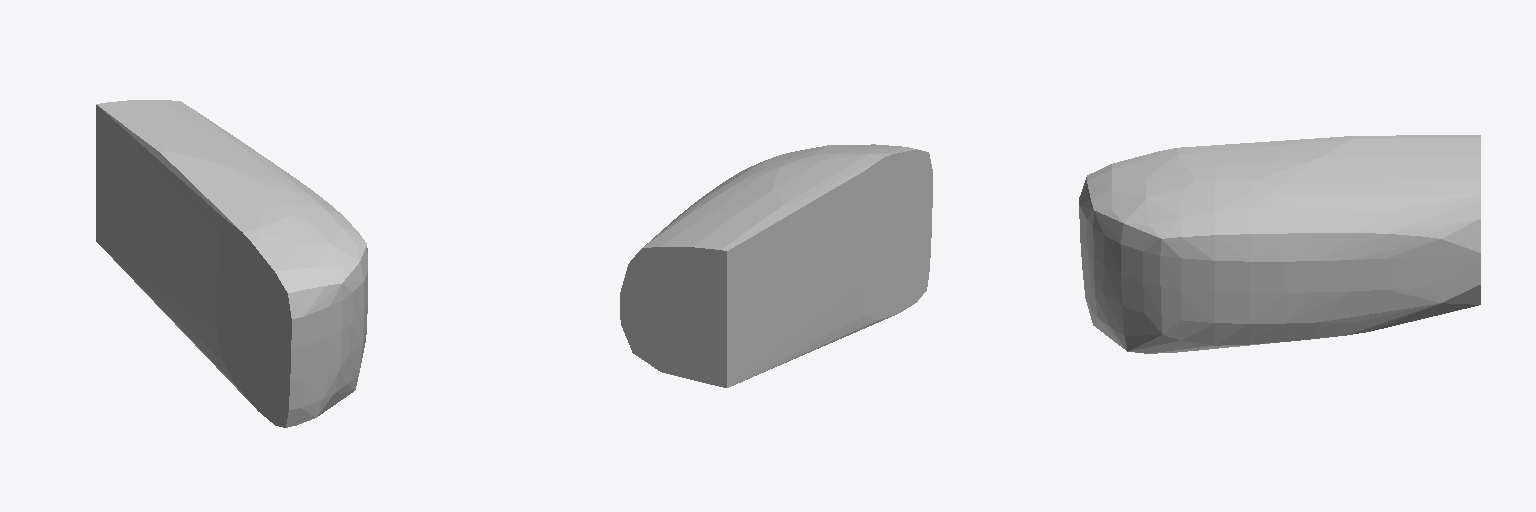
The model's file is pan_collision_13.obj.
The picture shows the model from 3 angles: view 1: azimuth 30°, elevation 25°; view 2: azimuth 150°, elevation 25°; view 3: azimuth 270°, elevation 25°; orthographic projection.
Size of the model in its own units: 0.018 by 0.0246 by 0.0485.